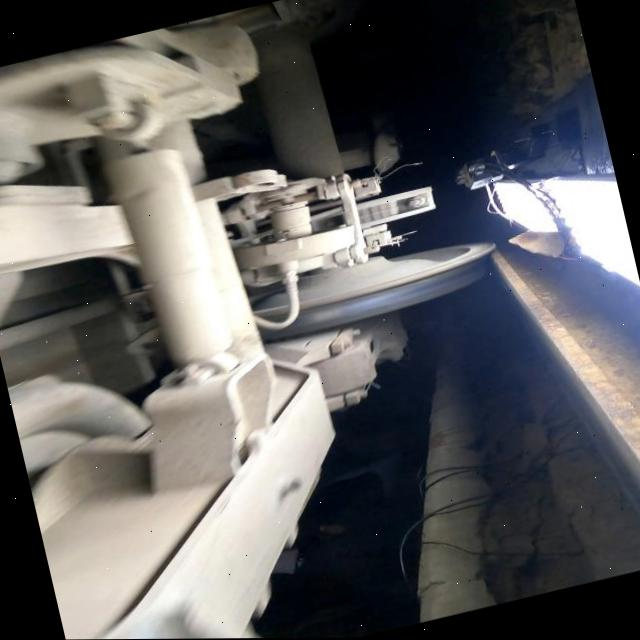Shelling: (316, 308, 341, 321)
Wheel: (265, 242, 496, 339)
